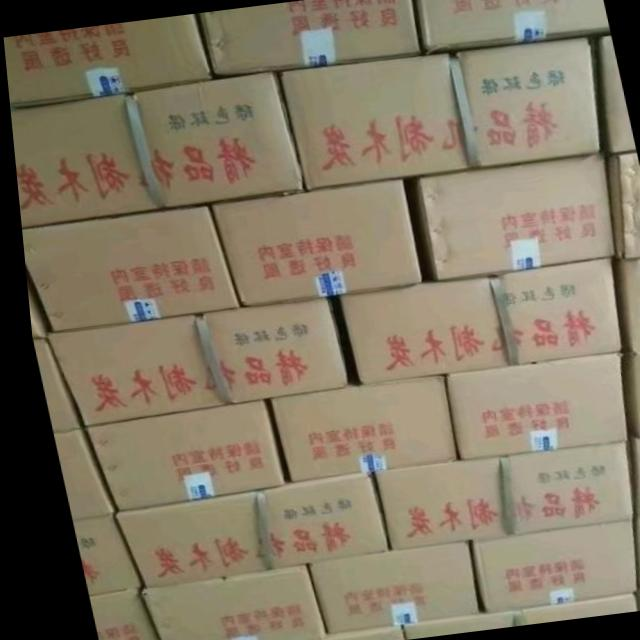box: (277, 36, 597, 188), (8, 71, 302, 228), (40, 295, 341, 427), (334, 256, 616, 383), (102, 471, 379, 589), (17, 202, 236, 332), (365, 441, 623, 550), (205, 176, 417, 307), (406, 153, 609, 281), (78, 398, 276, 510), (259, 373, 448, 482), (435, 352, 620, 459), (3, 13, 211, 108), (197, 0, 418, 78), (294, 539, 470, 635), (456, 520, 626, 613), (128, 565, 314, 640), (416, 0, 610, 54), (62, 515, 133, 595), (44, 429, 106, 519), (600, 150, 640, 261), (77, 589, 144, 640), (606, 256, 640, 353), (615, 350, 640, 439), (621, 435, 640, 520), (625, 517, 640, 589)
